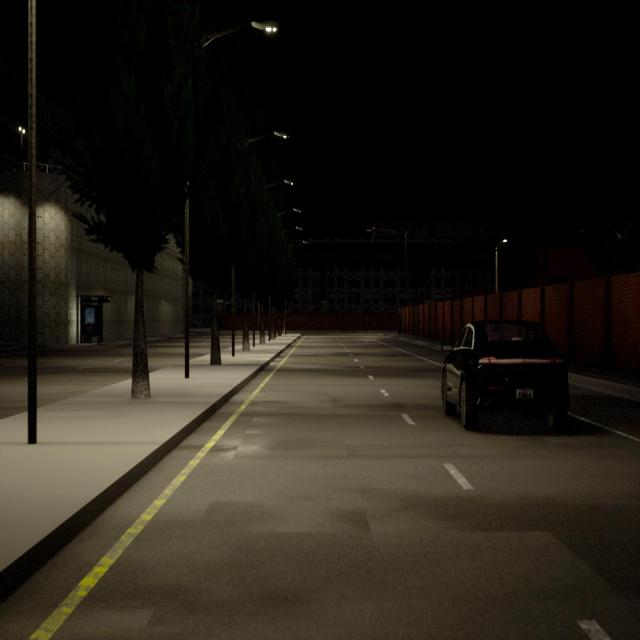Pedestrian: (398, 314, 402, 334)
Vehicle: (442, 322, 568, 428)
